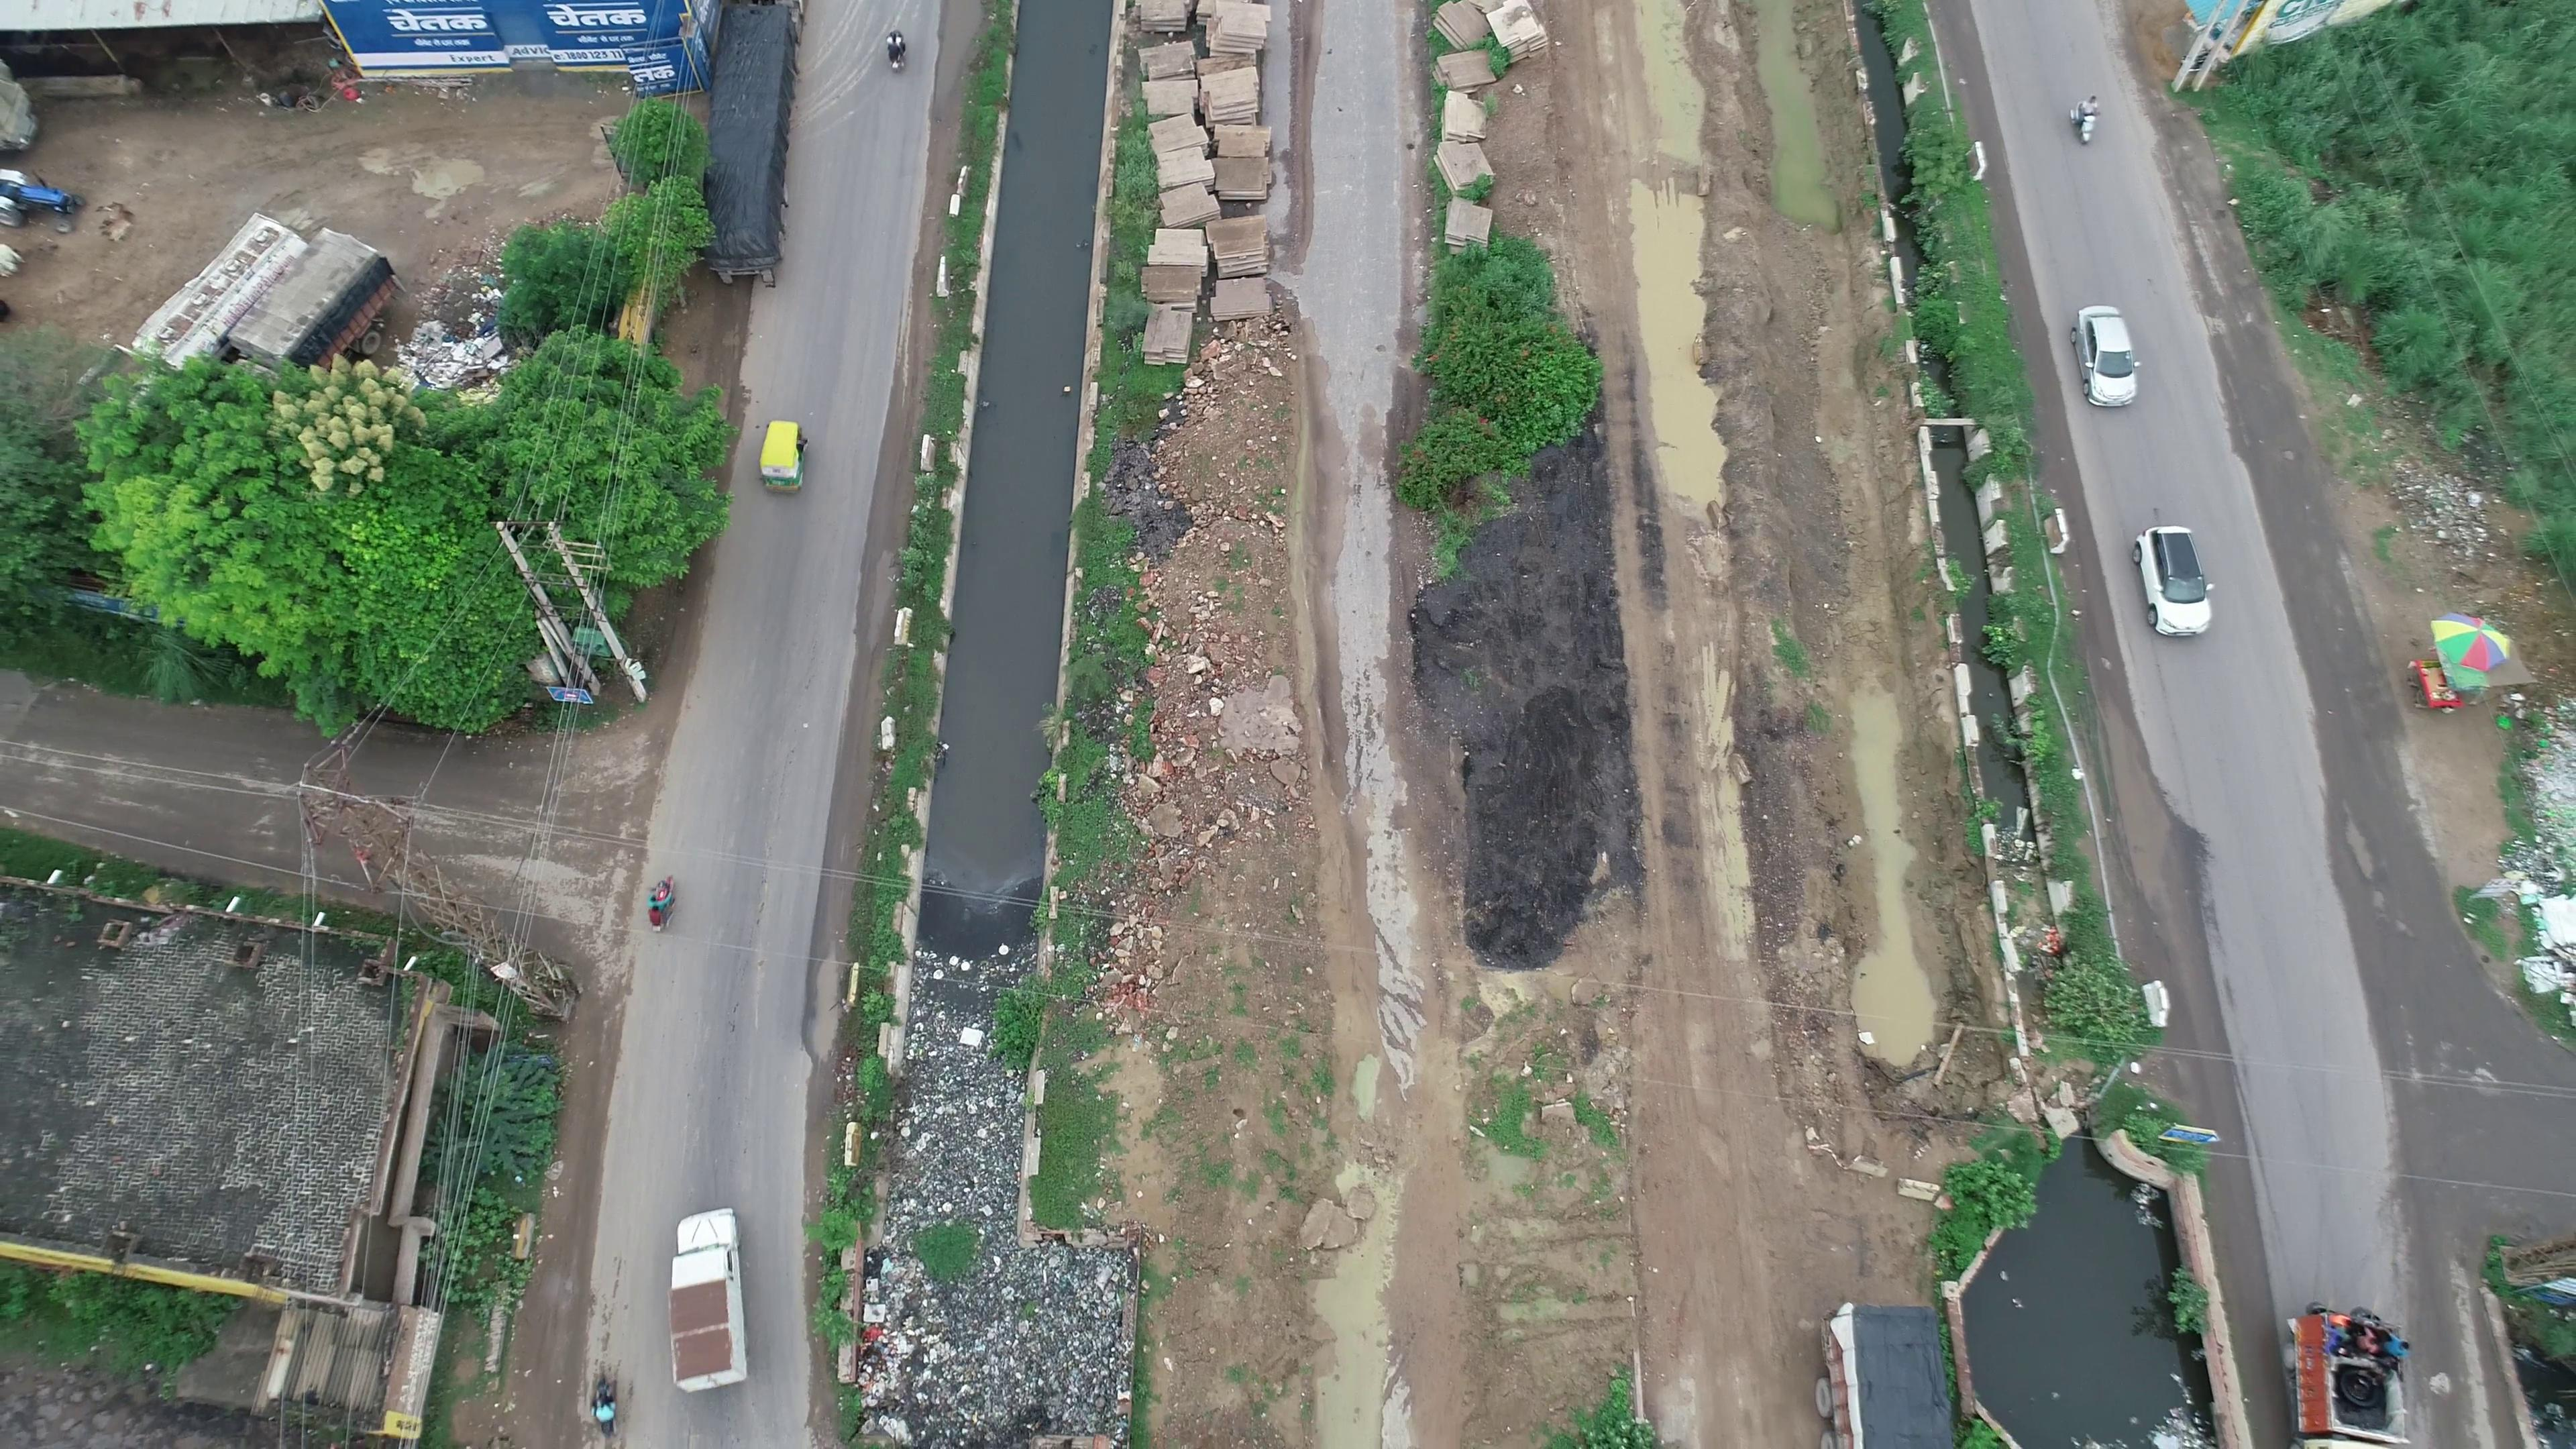Potholes: (2314, 777, 2411, 943)
